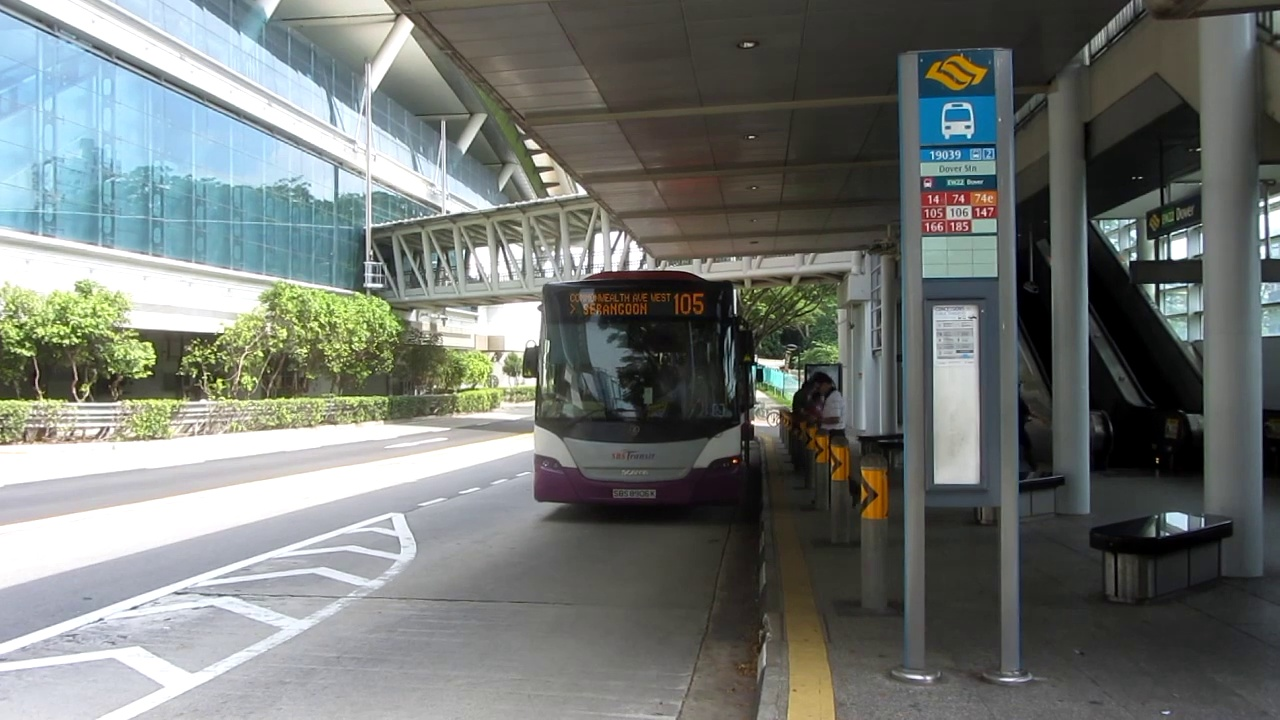bus panel: (565, 290, 709, 319)
